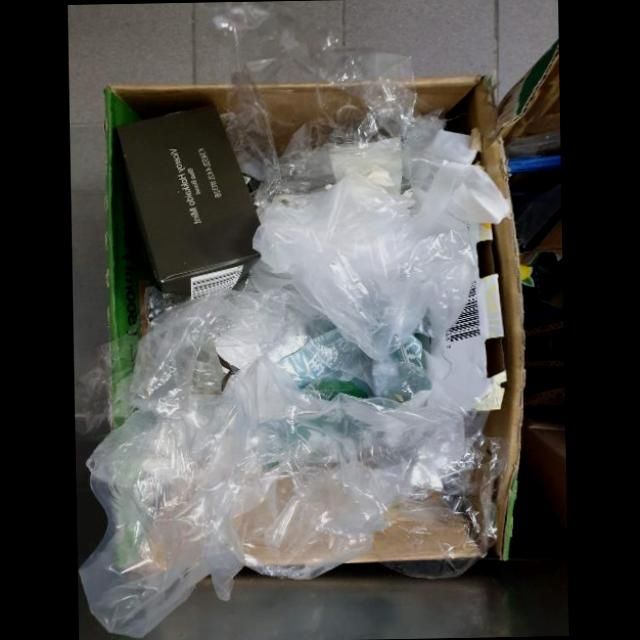carton: (116, 102, 260, 299)
tui_ni_long: (78, 266, 485, 636), (251, 132, 508, 357), (204, 1, 417, 205)
